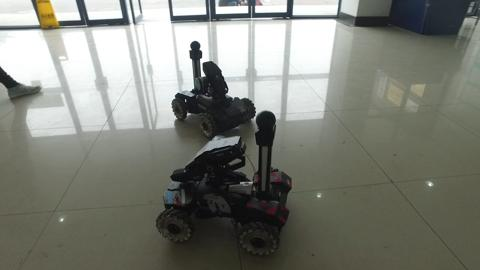chariot: (153, 106, 296, 258), (166, 37, 258, 141)
